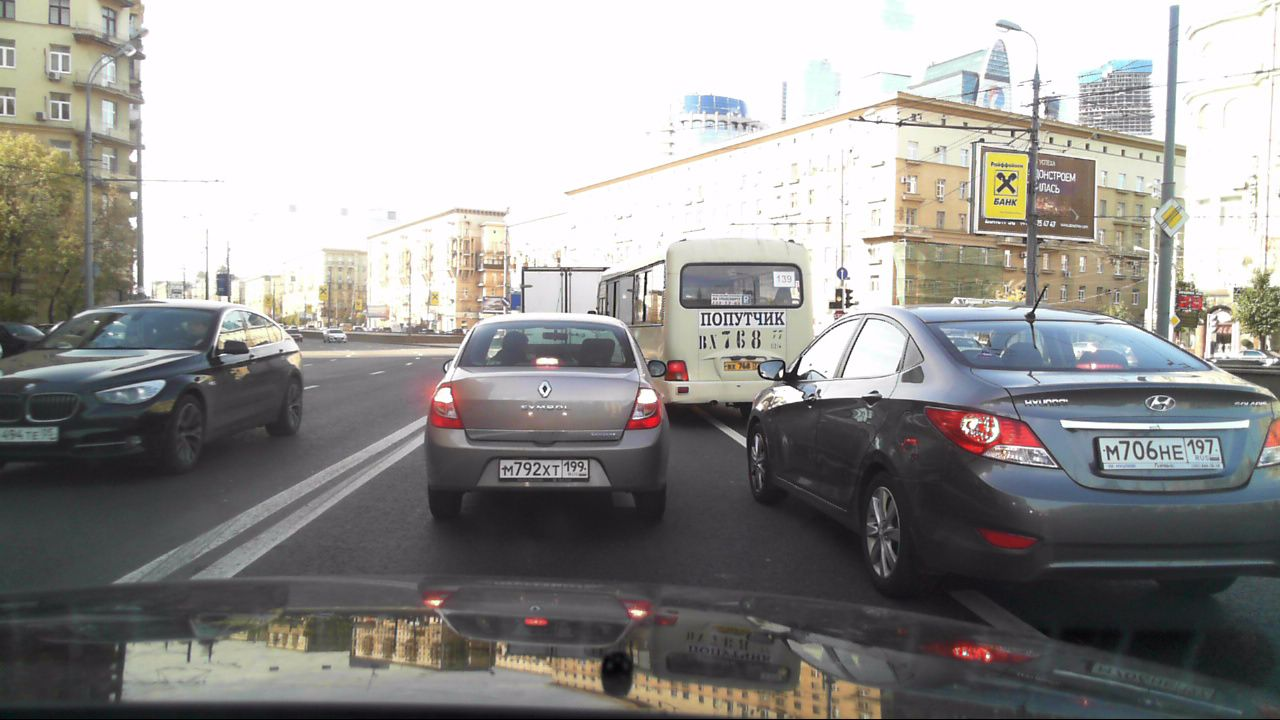main road: (1152, 196, 1191, 238)
